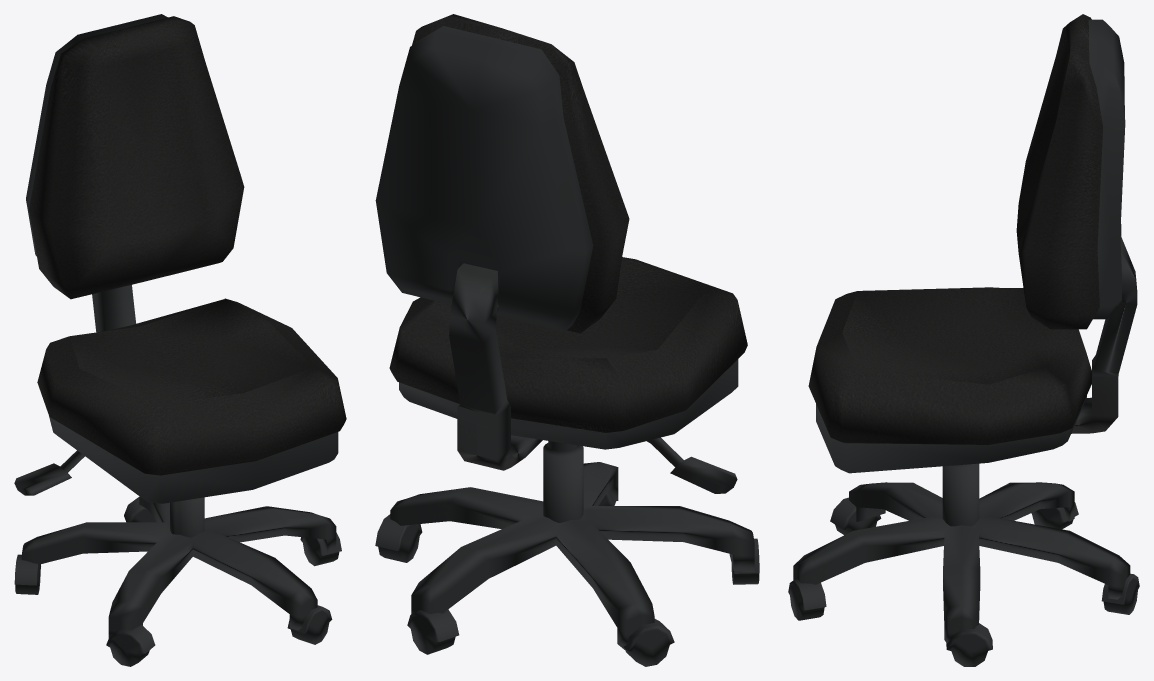
File: low_poly_office_chair.glb
3 views of the same model, side by side, from view 1: azimuth 30°, elevation 25°; view 2: azimuth 150°, elevation 25°; view 3: azimuth 270°, elevation 25° (orthographic). The views are drawn at different scales.
Parts seen in each view (by area): view 1: OfficeChair_Mesh; view 2: OfficeChair_Mesh; view 3: OfficeChair_Mesh.
Boxes of the visible parts, x1=… form: OfficeChair_Mesh: x1=14, y1=14, x2=346, y2=666; OfficeChair_Mesh: x1=375, y1=14, x2=759, y2=666; OfficeChair_Mesh: x1=788, y1=14, x2=1139, y2=666.
Size of the model in its own units: 1.14 by 1.89 by 1.08.
1 material, 1 textured.
